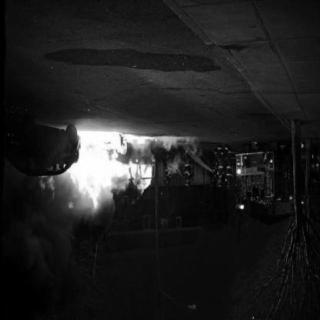Fire: (61, 130, 157, 216)
other: (236, 204, 244, 212), (237, 168, 241, 178), (268, 159, 272, 163)
